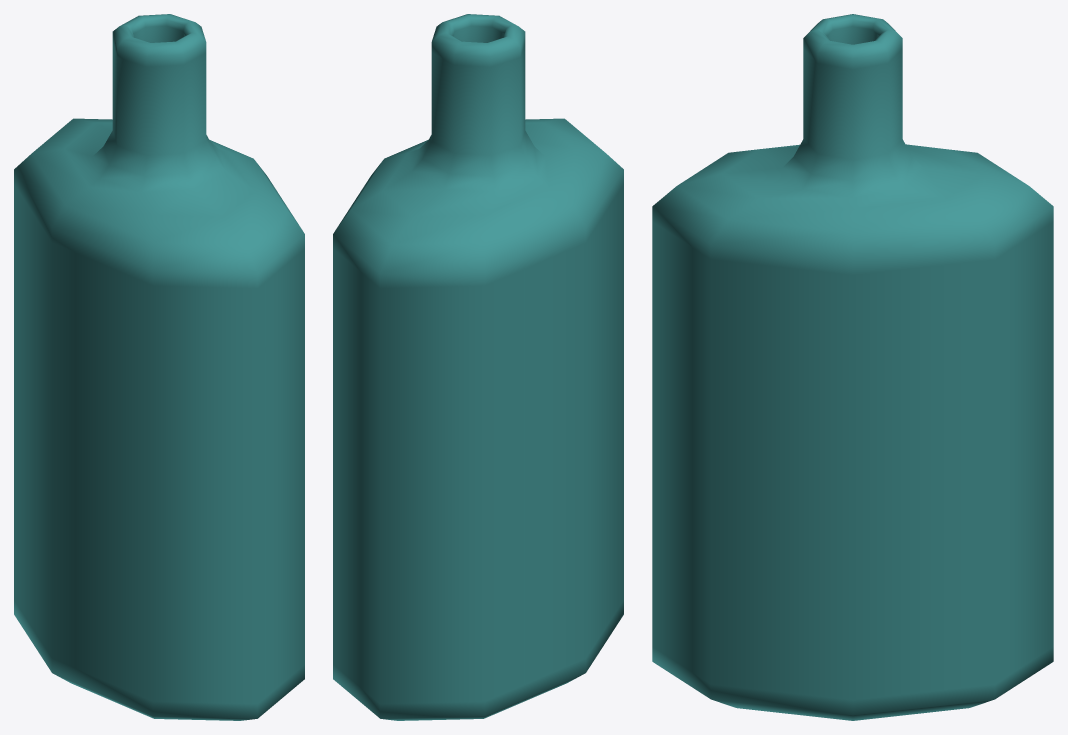
File: bottle-3.obj
3 renders of one model, left to right at view 1: azimuth 30°, elevation 25°; view 2: azimuth 150°, elevation 25°; view 3: azimuth 270°, elevation 25°, orthographic. The views are drawn at different scales.
Visible parts, largest first — view 1: Bottle_Cylinder; view 2: Bottle_Cylinder; view 3: Bottle_Cylinder.
Boxes of the visible parts, x1=… form: Bottle_Cylinder: x1=14, y1=14, x2=304, y2=720; Bottle_Cylinder: x1=333, y1=14, x2=623, y2=720; Bottle_Cylinder: x1=652, y1=14, x2=1053, y2=720.
Bounding box in the file's own units: 0.1212 × 0.3412 × 0.1919.
